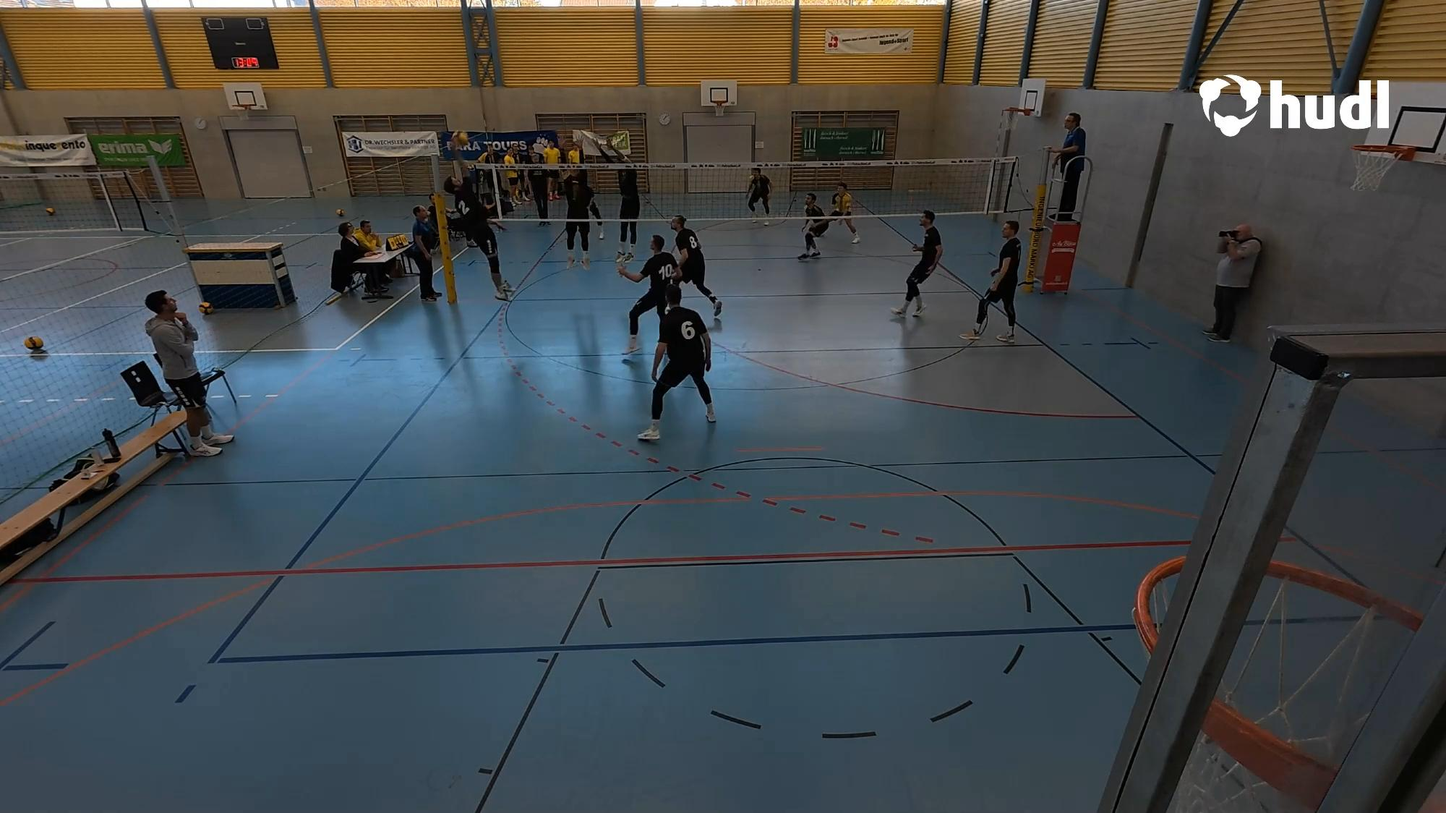Attack: (446, 133, 518, 309)
Block: (605, 135, 650, 273), (557, 143, 601, 273)
Player: (637, 291, 716, 442), (964, 220, 1024, 345), (622, 237, 676, 359), (893, 209, 944, 322), (673, 223, 719, 316), (829, 181, 865, 244), (796, 191, 827, 262), (747, 163, 774, 226)
ball: (452, 129, 469, 145)
